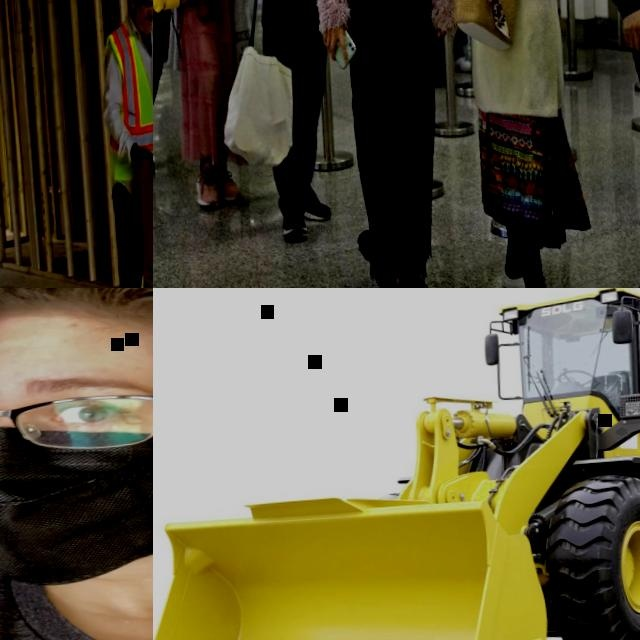Mask: (0, 410, 153, 586)
NO-Hardhat: (0, 288, 153, 374)
NO-Mask: (135, 12, 153, 33)
NO-Safety Vest: (0, 519, 153, 640)
Person: (0, 288, 153, 640), (295, 0, 466, 288), (444, 0, 602, 288), (225, 0, 375, 250), (158, 0, 269, 203), (573, 0, 640, 288), (87, 0, 153, 288)
Safety Vest: (98, 16, 153, 182)
machinery: (153, 288, 640, 640)
